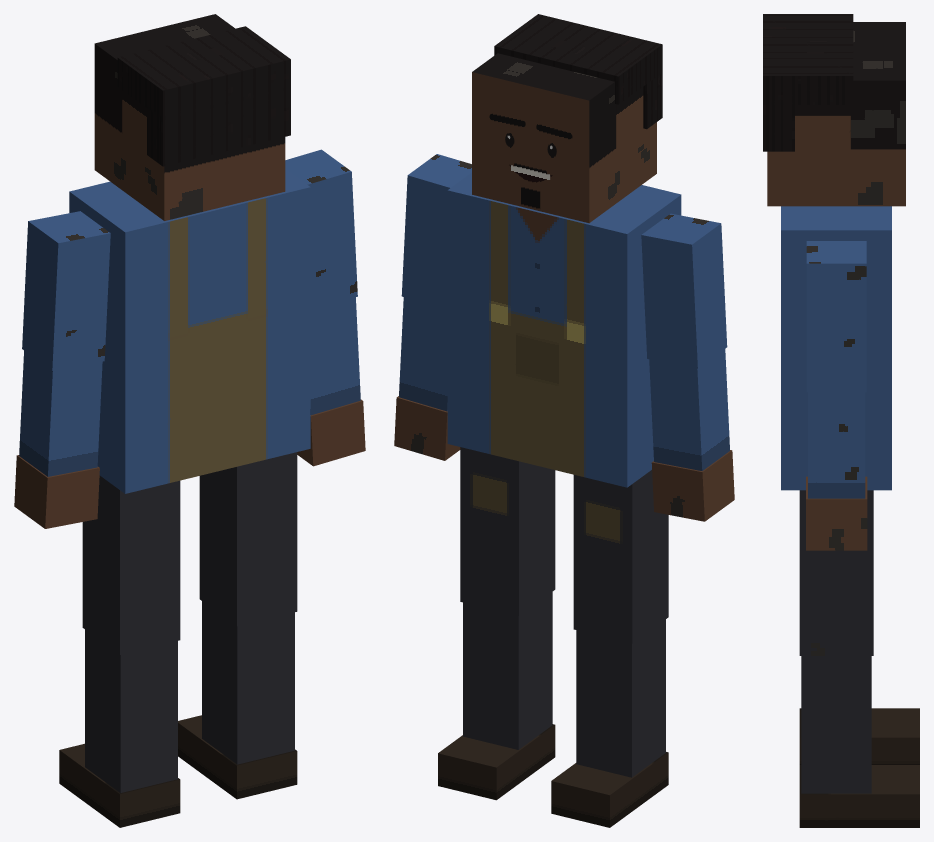
The model's file is survivor_man.glb.
The picture shows the model from 3 angles, left to right: view 1: azimuth 30°, elevation 25°; view 2: azimuth 150°, elevation 25°; view 3: azimuth 270°, elevation 25°; orthographic projection. The views are drawn at different scales.
Parts seen in each view (by area): view 1: block_torso, block_head, block_thigh.L, block_thigh.R, block_shin.R, block_shin.L, block_upper_arm.L, block_hair-receding, block_forearm.L, block_upper_arm.R, block_hair-back, block_forearm.R (+4 smaller); view 2: block_torso, block_head, block_thigh.L, block_thigh.R, block_shin.L, block_shin.R, block_upper_arm.L, block_forearm.L, block_hair-receding, block_upper_arm.R, block_foot.L, block_foot.R (+4 smaller); view 3: block_head, block_torso, block_shin.R, block_upper_arm.R, block_thigh.R, block_hair-receding, block_forearm.R, block_foot.R, block_hand.R, block_foot.L, block_hair-back.
Boxes of the visible parts, <box> form: block_torso: <box>69,169,310,493</box>; block_head: <box>94,14,285,220</box>; block_thigh.L: <box>82,475,180,654</box>; block_thigh.R: <box>199,452,297,626</box>; block_shin.R: <box>202,601,294,764</box>; block_shin.L: <box>85,629,177,792</box>; block_upper_arm.L: <box>22,211,110,370</box>; block_hair-receding: <box>117,26,290,119</box>; block_forearm.L: <box>19,350,102,476</box>; block_upper_arm.R: <box>285,149,357,310</box>; block_hair-back: <box>147,86,290,166</box>; block_forearm.R: <box>310,297,360,415</box>; block_torso: <box>447,172,681,487</box>; block_head: <box>472,53,656,223</box>; block_thigh.L: <box>573,470,668,643</box>; block_thigh.R: <box>460,447,555,615</box>; block_shin.L: <box>576,619,665,777</box>; block_shin.R: <box>463,592,552,749</box>; block_upper_arm.L: <box>641,213,727,368</box>; block_forearm.L: <box>649,349,729,470</box>; block_hair-receding: <box>494,14,662,104</box>; block_upper_arm.R: <box>401,154,471,309</box>; block_foot.L: <box>551,752,668,827</box>; block_foot.R: <box>438,724,555,800</box>; block_head: <box>767,22,905,206</box>; block_torso: <box>781,206,891,490</box>; block_shin.R: <box>801,656,871,793</box>; block_upper_arm.R: <box>806,241,866,392</box>; block_thigh.R: <box>799,490,873,655</box>; block_hair-receding: <box>763,14,853,104</box>; block_forearm.R: <box>808,392,865,498</box>; block_foot.R: <box>799,765,919,827</box>; block_hand.R: <box>806,476,867,550</box>; block_foot.L: <box>799,708,919,764</box>; block_hair-back: <box>763,102,794,151</box>.
Bounding box in the file's own units: 0.7948 × 1.76 × 0.339.
1 material, 1 textured.
